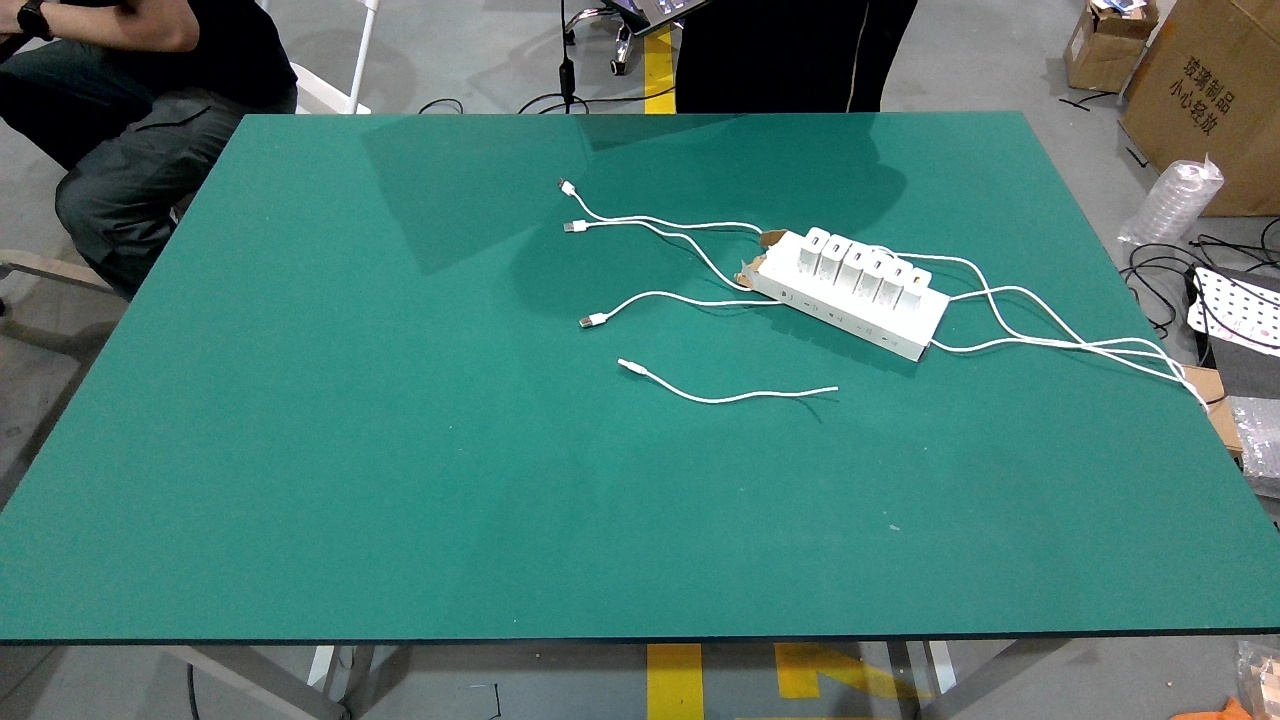usb_a_port: (830, 242, 841, 254), (852, 251, 863, 262), (892, 266, 901, 278), (873, 260, 882, 270), (913, 275, 921, 286), (811, 236, 818, 246)
